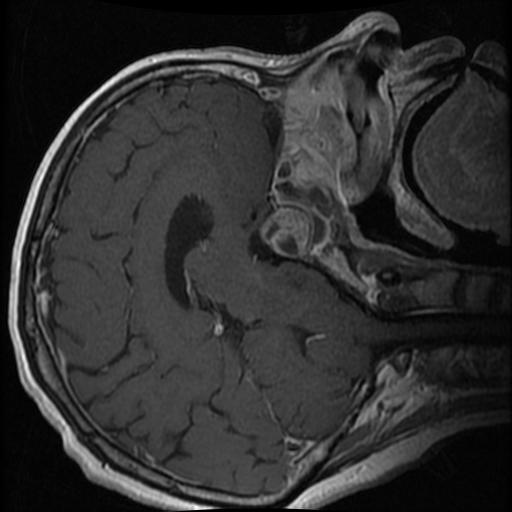pituitary tumour: (259, 207, 316, 258)
